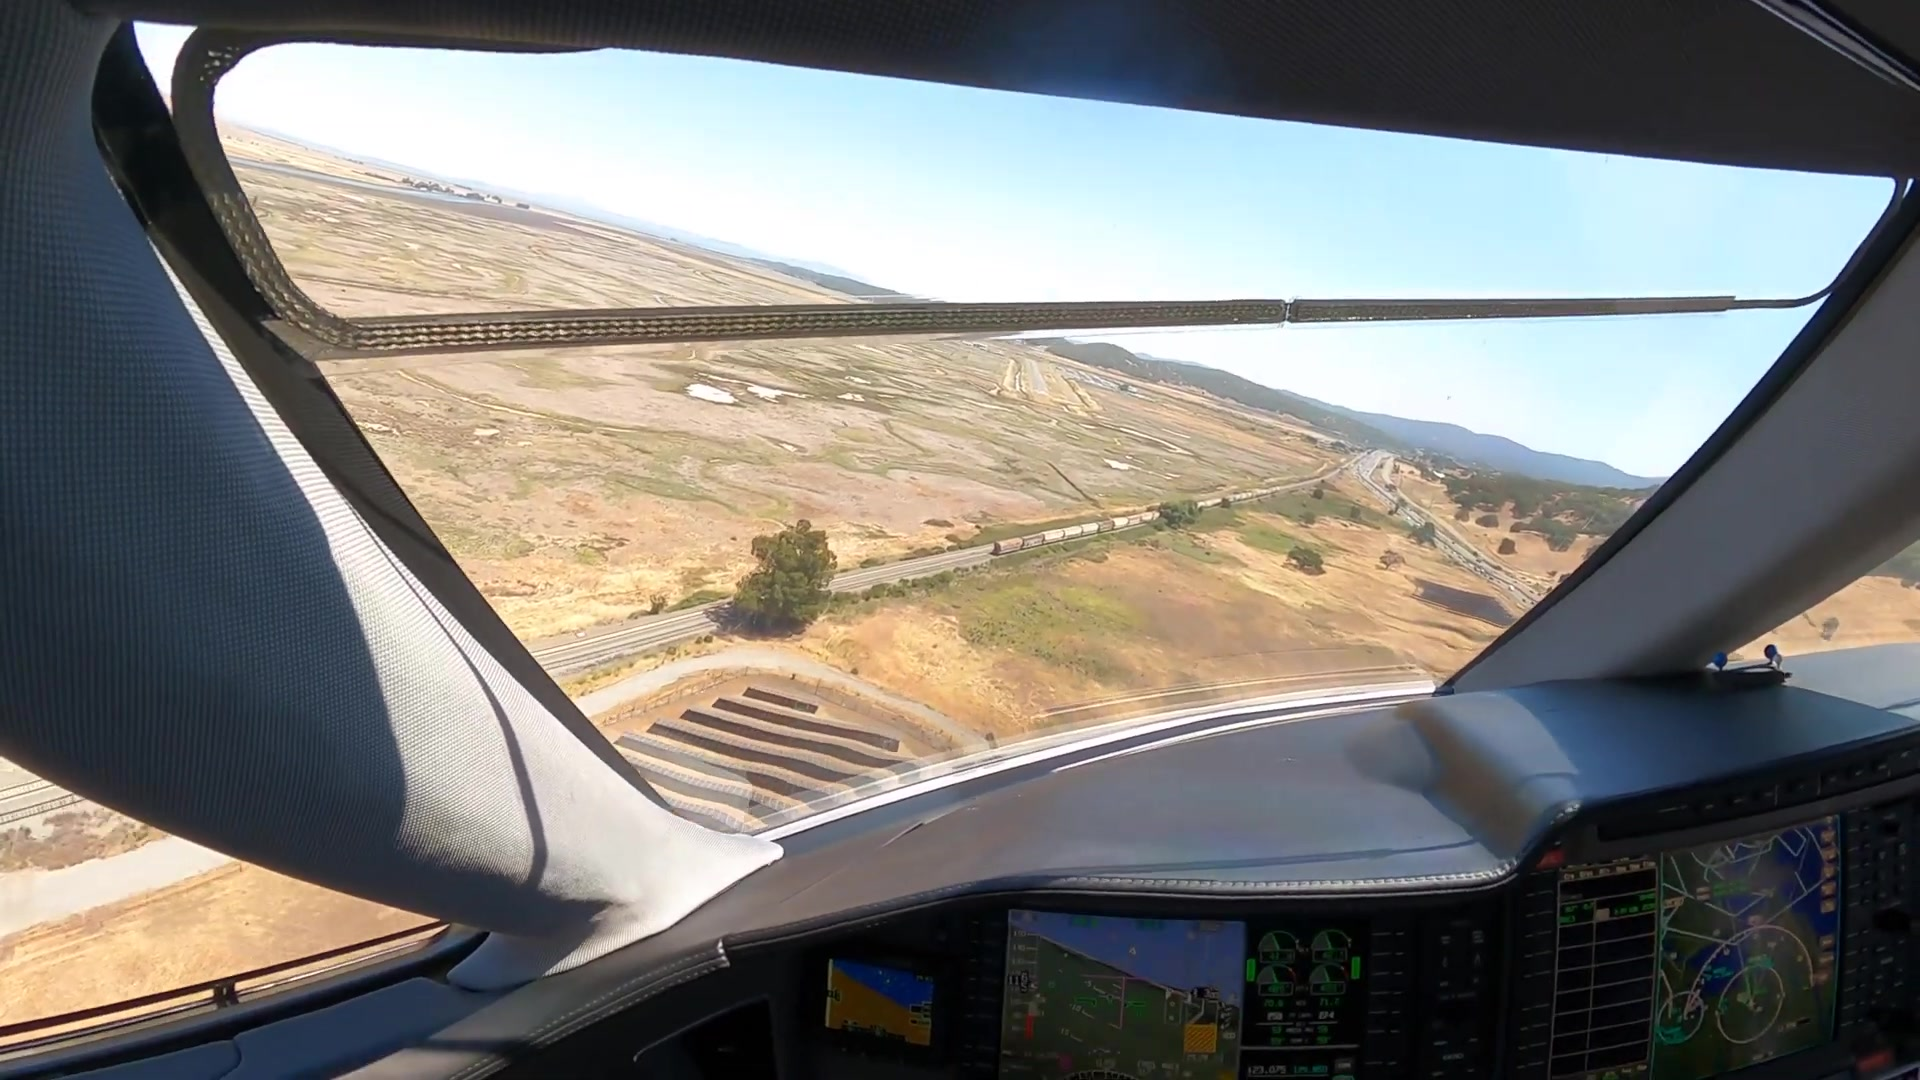runway: (1023, 357, 1051, 398)
